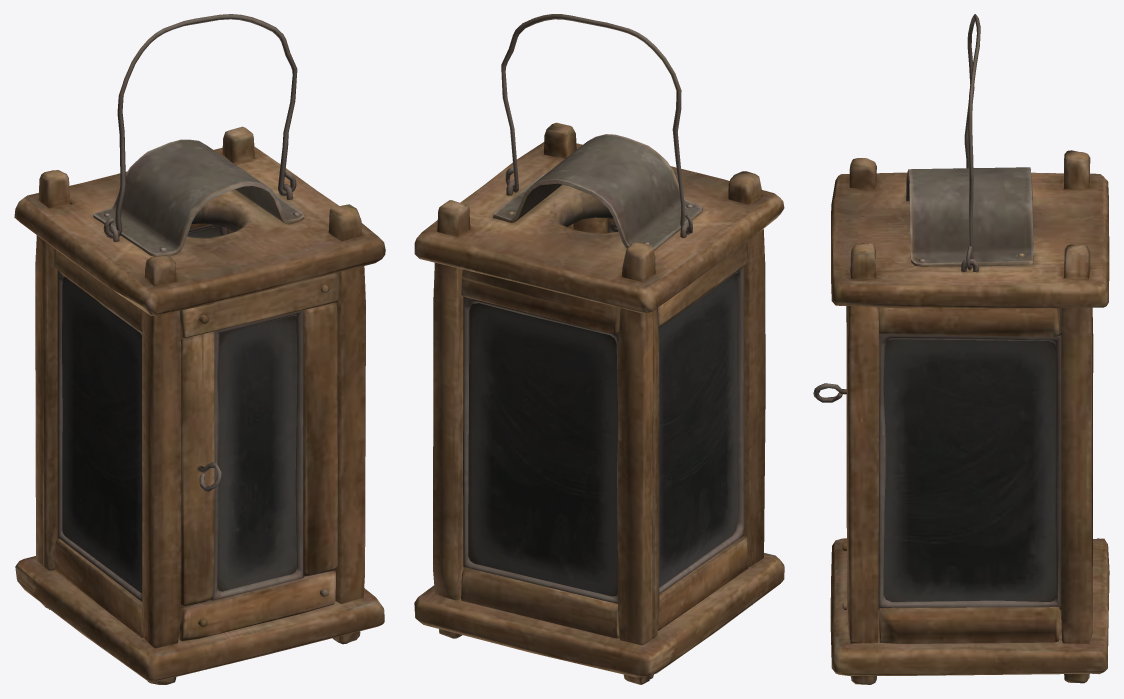
The model's file is wooden_lantern_01.glb.
3 views of the same model, side by side, from view 1: azimuth 30°, elevation 25°; view 2: azimuth 150°, elevation 25°; view 3: azimuth 270°, elevation 25° (orthographic).
Parts seen in each view (by area): view 1: wooden_lantern_01, wooden_lantern_01_door, wooden_lantern_01_handle; view 2: wooden_lantern_01, wooden_lantern_01_handle, wooden_lantern_01_door; view 3: wooden_lantern_01, wooden_lantern_01_handle, wooden_lantern_01_door.
Part boxes in pixels (x1=…): wooden_lantern_01: x1=14, y1=126, x2=385, y2=684; wooden_lantern_01_door: x1=178, y1=272, x2=339, y2=641; wooden_lantern_01_handle: x1=103, y1=14, x2=297, y2=238; wooden_lantern_01: x1=414, y1=122, x2=784, y2=684; wooden_lantern_01_handle: x1=501, y1=14, x2=692, y2=234; wooden_lantern_01_door: x1=573, y1=217, x2=617, y2=233; wooden_lantern_01: x1=830, y1=150, x2=1109, y2=684; wooden_lantern_01_handle: x1=964, y1=14, x2=980, y2=270; wooden_lantern_01_door: x1=813, y1=306, x2=847, y2=624.
Bounding box in the file's own units: 0.221 × 0.5301 × 0.2347.
Materials: 2 (2 with a texture image).
